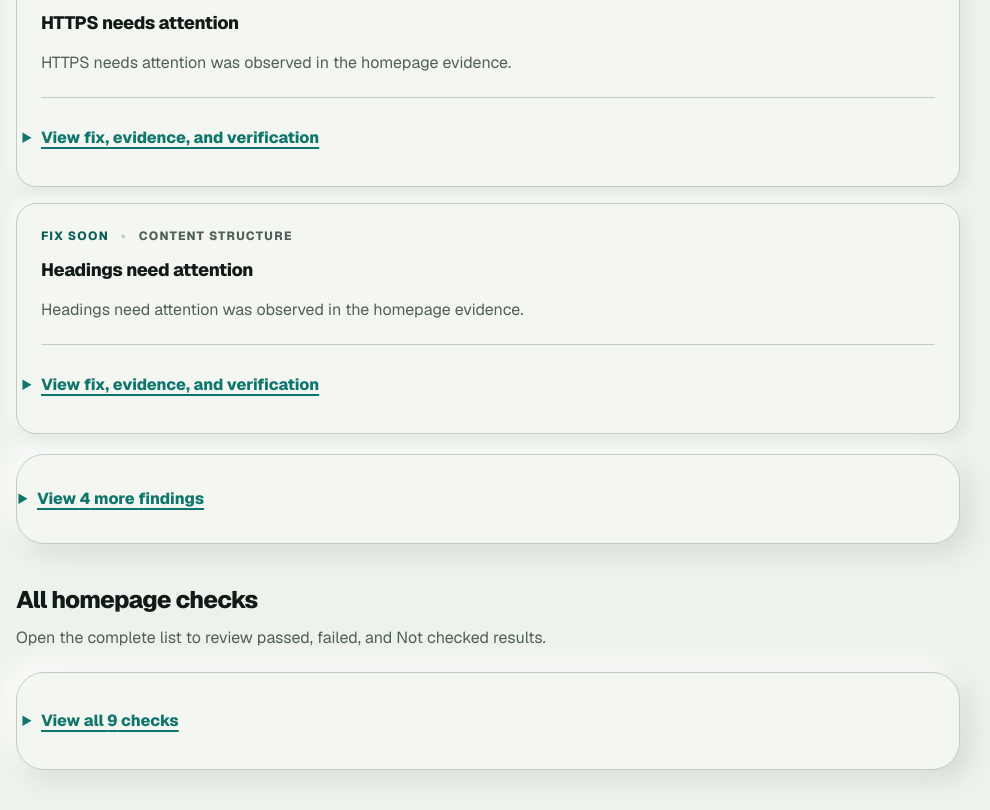
PublicScanResults › orders the first five findings by priority and keeps every remaining finding reachable
(page scrolled)
Click the heading "View 4 more findings": [121, 499] box [37, 488, 204, 509]
(page scrolled)
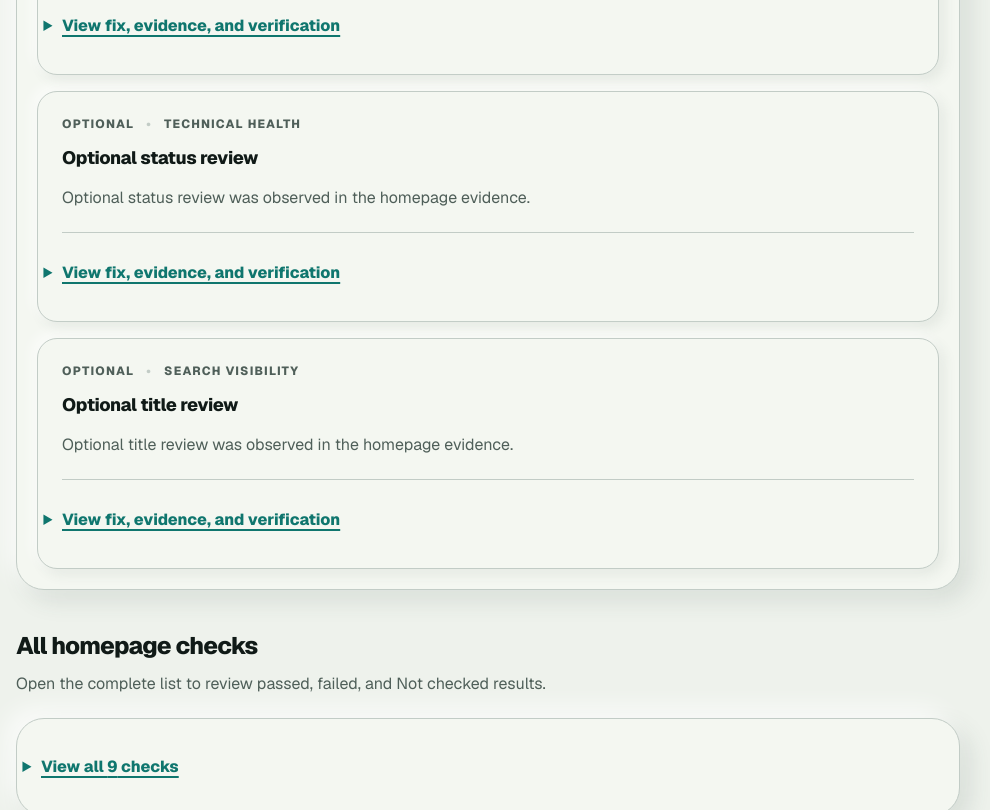
Result: the heading "Optional title review" is shown at [62, 393, 238, 416]
